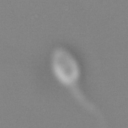normal: (72, 86, 107, 128)
